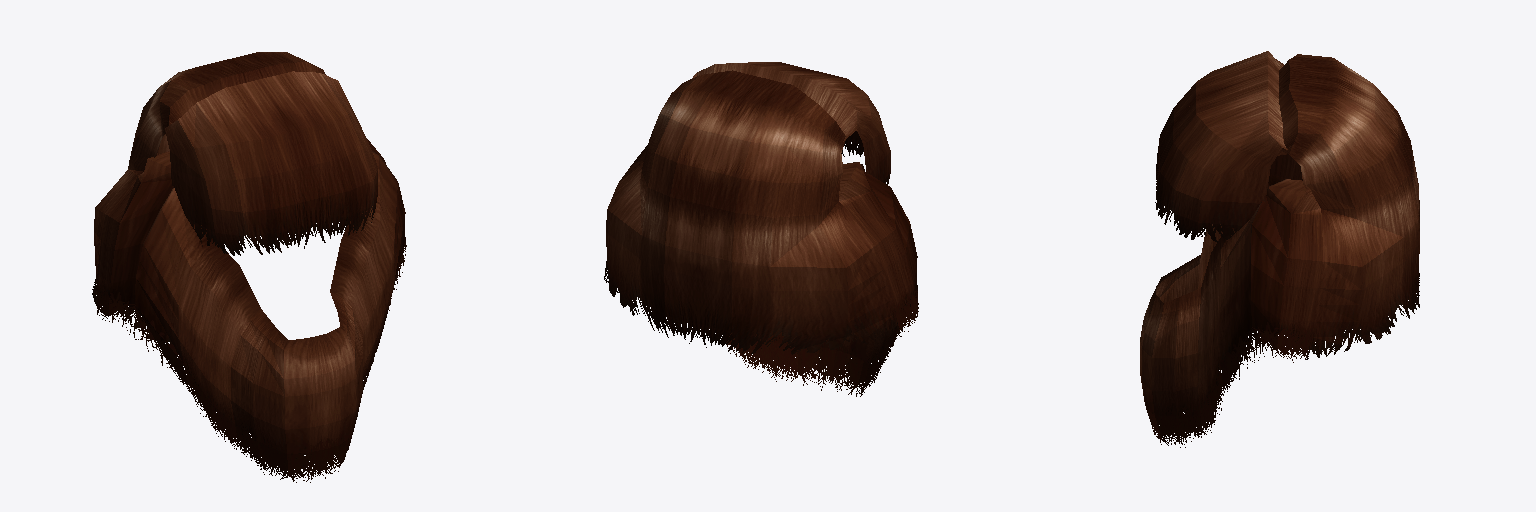
3 renders of one model, left to right at view 1: azimuth 30°, elevation 25°; view 2: azimuth 150°, elevation 25°; view 3: azimuth 270°, elevation 25°, orthographic.
Visible parts, largest first — view 1: polySurface15 polySurface14, polySurface6, polySurface12, polySurface14 polySurface17; view 2: polySurface12, polySurface14 polySurface17, polySurface6, polySurface15 polySurface14; view 3: polySurface12, polySurface6, polySurface15 polySurface14, polySurface14 polySurface16, polySurface14 polySurface17.
Part boxes in pixels (left/top/right/bottom): polySurface15 polySurface14: left=133, top=151, right=405, bottom=482; polySurface6: left=165, top=71, right=377, bottom=255; polySurface12: left=92, top=52, right=347, bottom=305; polySurface14 polySurface17: left=97, top=151, right=173, bottom=334; polySurface12: left=604, top=70, right=899, bottom=354; polySurface14 polySurface17: left=839, top=162, right=918, bottom=332; polySurface6: left=692, top=62, right=890, bottom=184; polySurface15 polySurface14: left=726, top=164, right=914, bottom=396; polySurface12: left=1278, top=54, right=1419, bottom=359; polySurface6: left=1155, top=51, right=1287, bottom=242; polySurface15 polySurface14: left=1140, top=202, right=1261, bottom=447; polySurface14 polySurface16: left=1251, top=179, right=1322, bottom=362; polySurface14 polySurface17: left=1268, top=154, right=1302, bottom=186.
Bounding box in the file's own units: 16.37 × 18.99 × 13.27.
2 materials, 2 textured.